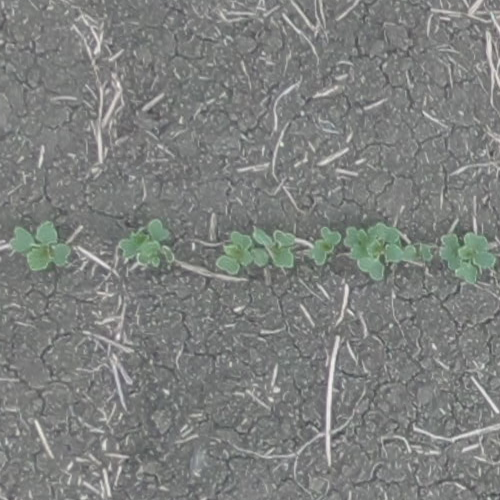plant: (216, 224, 297, 274), (346, 226, 403, 279), (438, 231, 495, 283), (13, 220, 69, 271), (120, 219, 170, 267), (309, 226, 343, 267), (403, 243, 434, 261)
